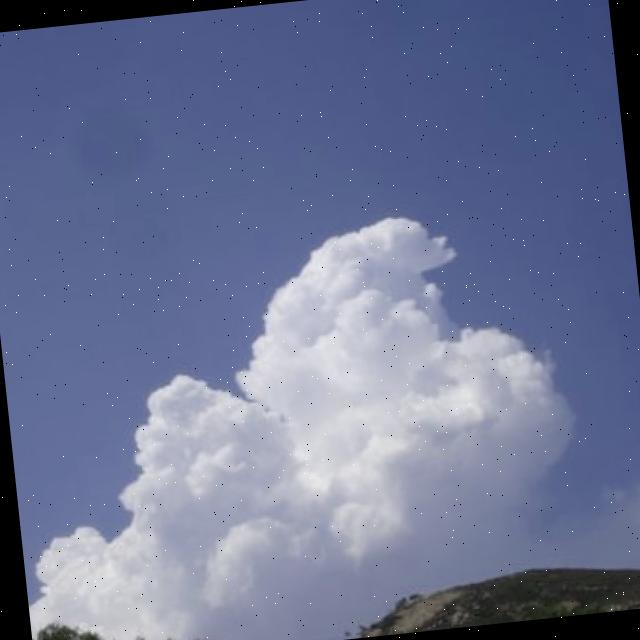Cu: (1, 129, 640, 615)
